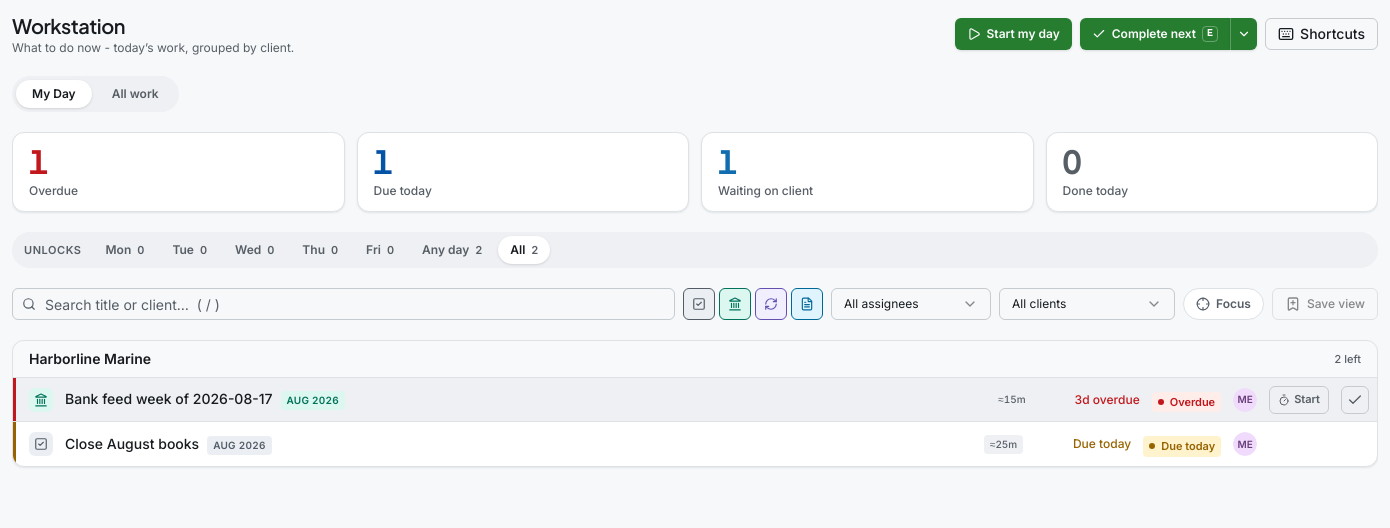
Up Next lane (D2) › Start my day enters a frozen one-card sequence in hierarchy order
The image size is (1390, 528).
Click the button with test id "start-my-day" at (1013, 34), box [955,18,1072,50]
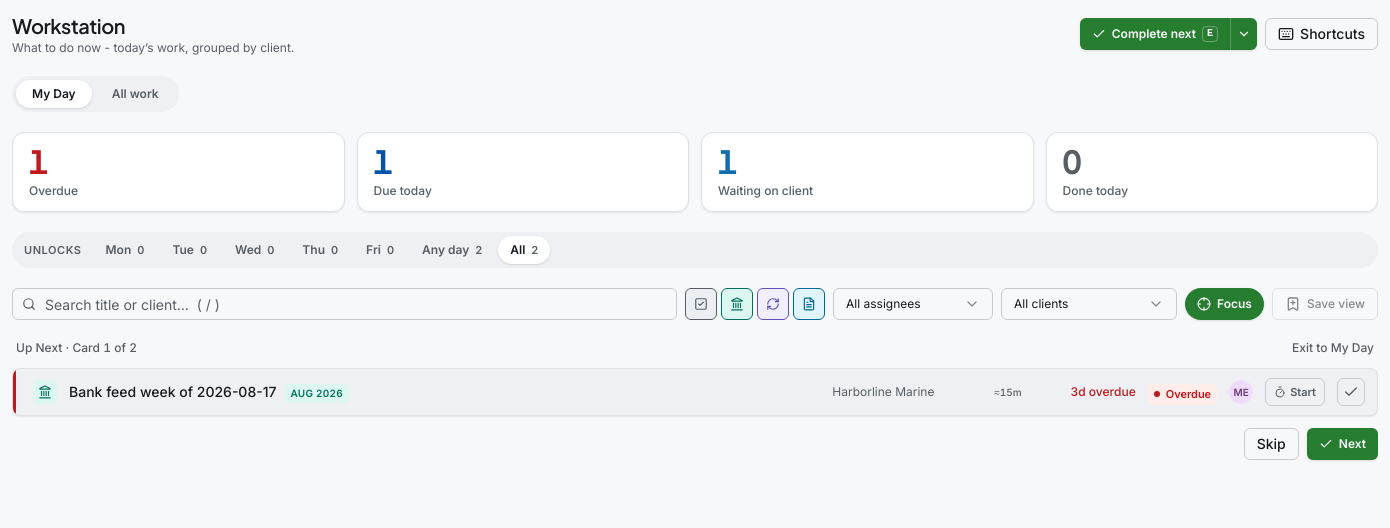
expect the element with test id "focus-mode" shows "Up Next": met, box [16,340,72,355]
expect the element with test id "focus-mode" shows "Card 1 of 2": met, box [12,340,1378,460]
// Complete: the frozen sequence advances, no reshuffle.
Click the button with test id "focus-next" at (1342, 444), box [1307,428,1378,460]
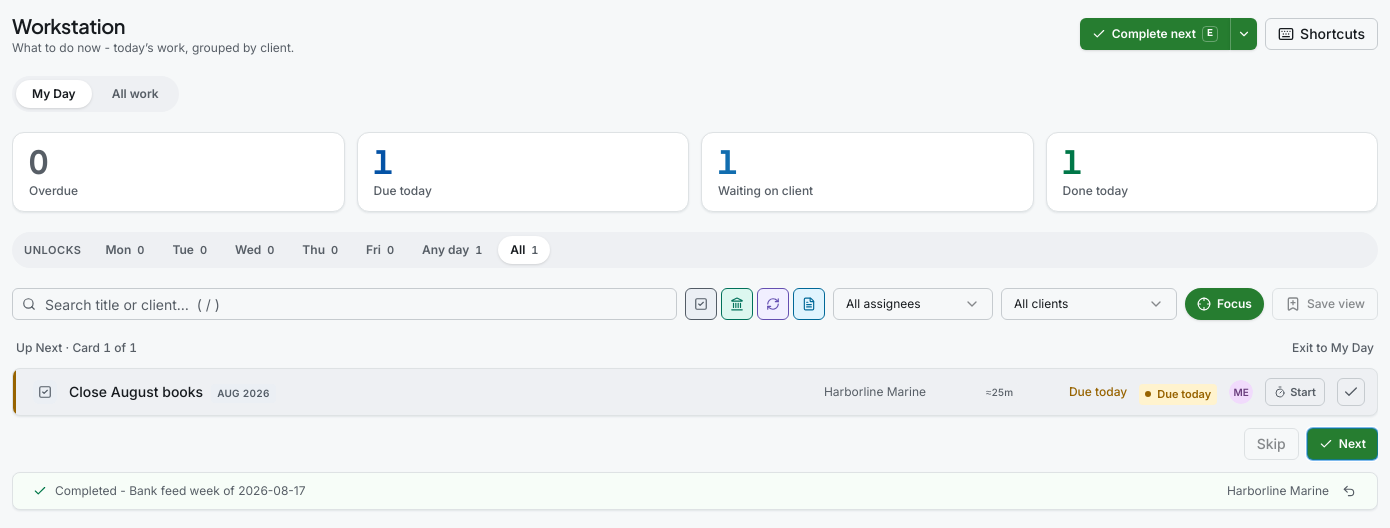
expect the element with test id "work-card" has attribute data-card-title="Close August books": met, box [12,368,1378,416]
// Exit returns to My Day.
Click the button with test id "up-next-exit" at (1333, 348), box [1292,340,1374,356]
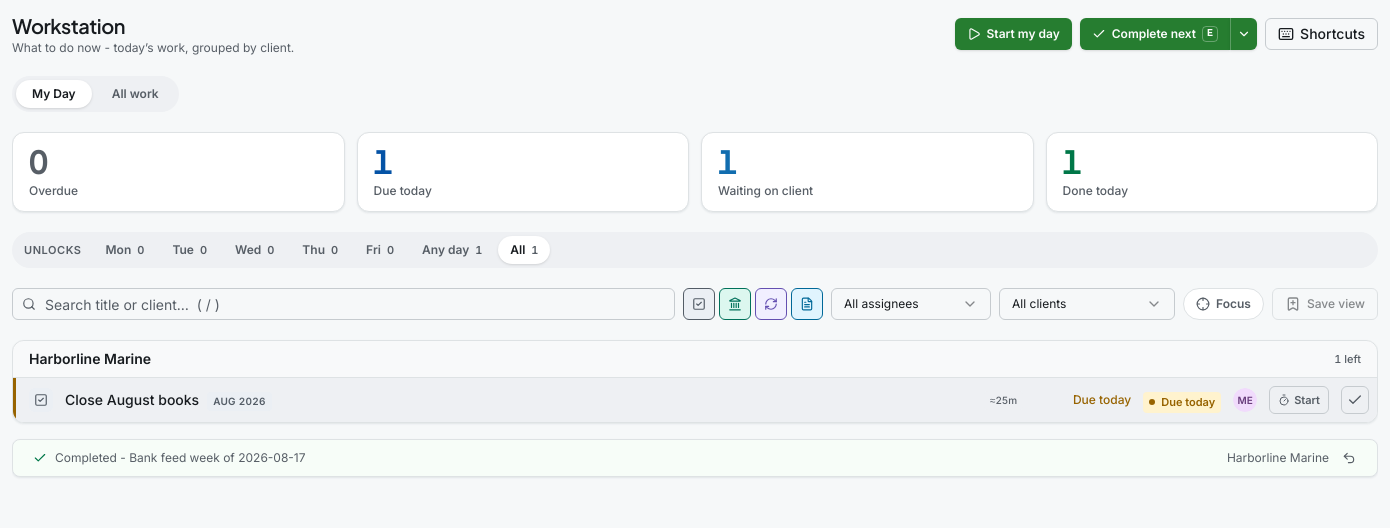
expect the element with test id "focus-mode" is gone: met
